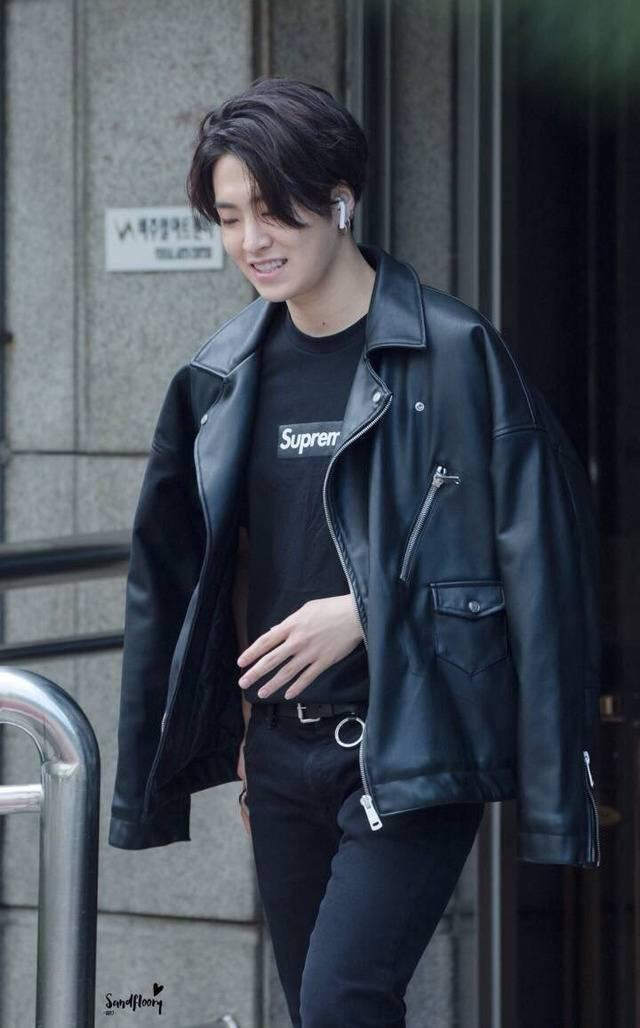earphone: (329, 183, 353, 242)
